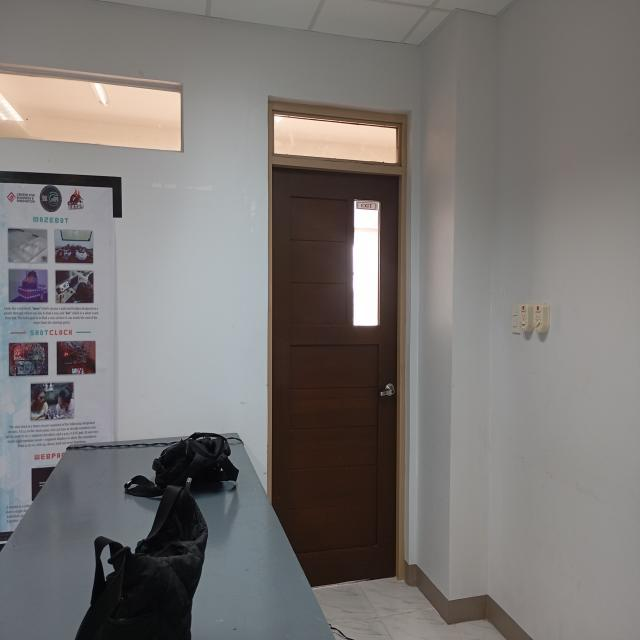door: (259, 87, 413, 604)
